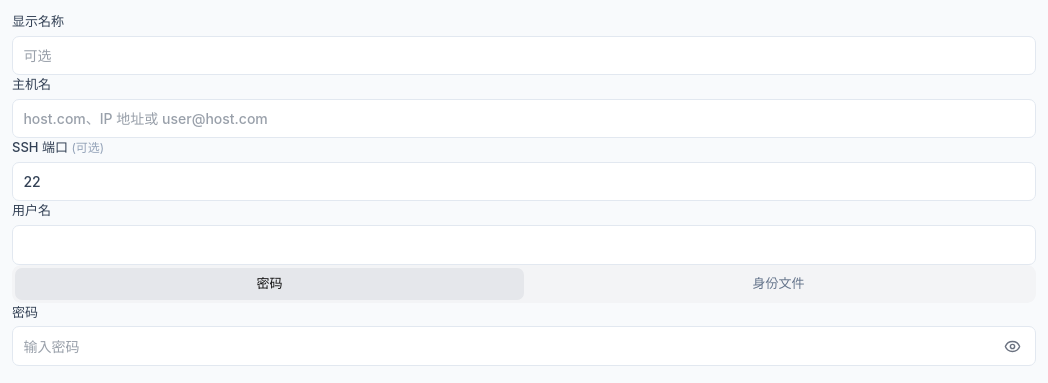
Scenario: RemoteServerFields host parsing › does not overwrite a username that the user already changed
The width and height of the screenshot is (1048, 383).
Type "admin" into the field named "username" at (524, 245), box [12, 225, 1036, 264]
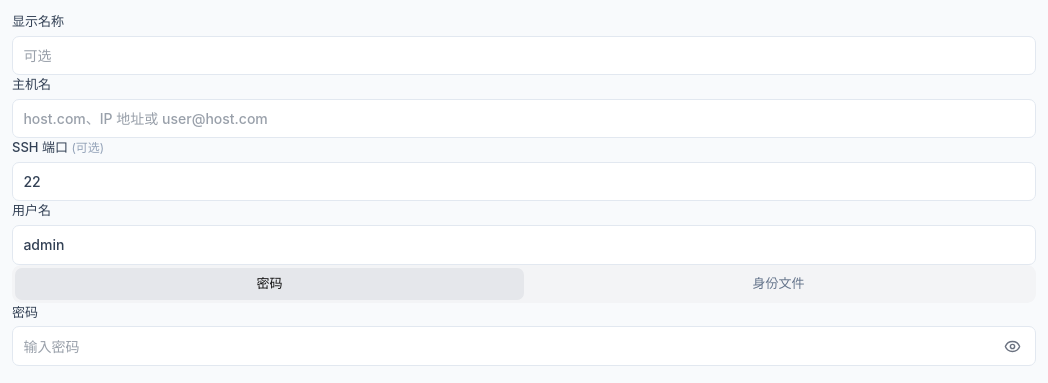
Type "root@keie.com" into the field named "host" at (524, 118), box [12, 99, 1036, 138]
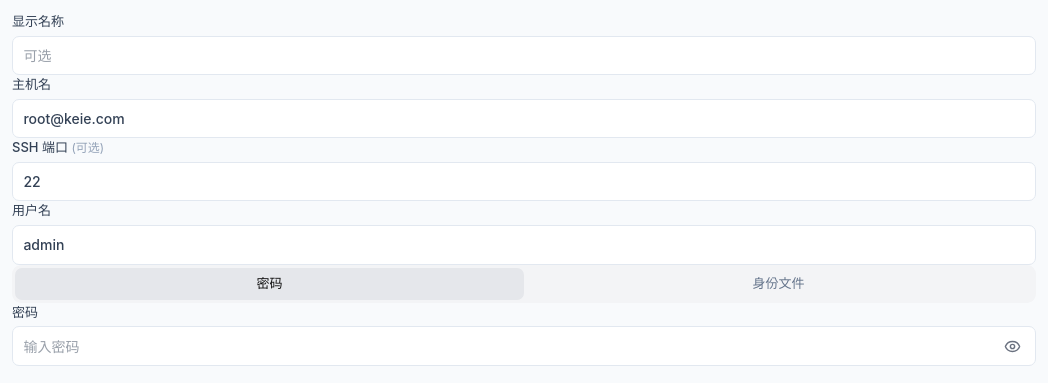
Leave the field named "host", box [12, 99, 1036, 138]
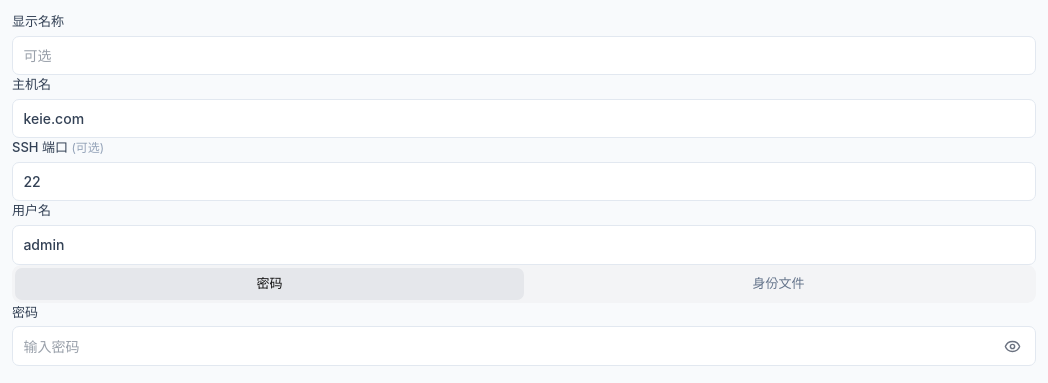
Now the field named "host" holds "keie.com", box [12, 99, 1036, 138]
